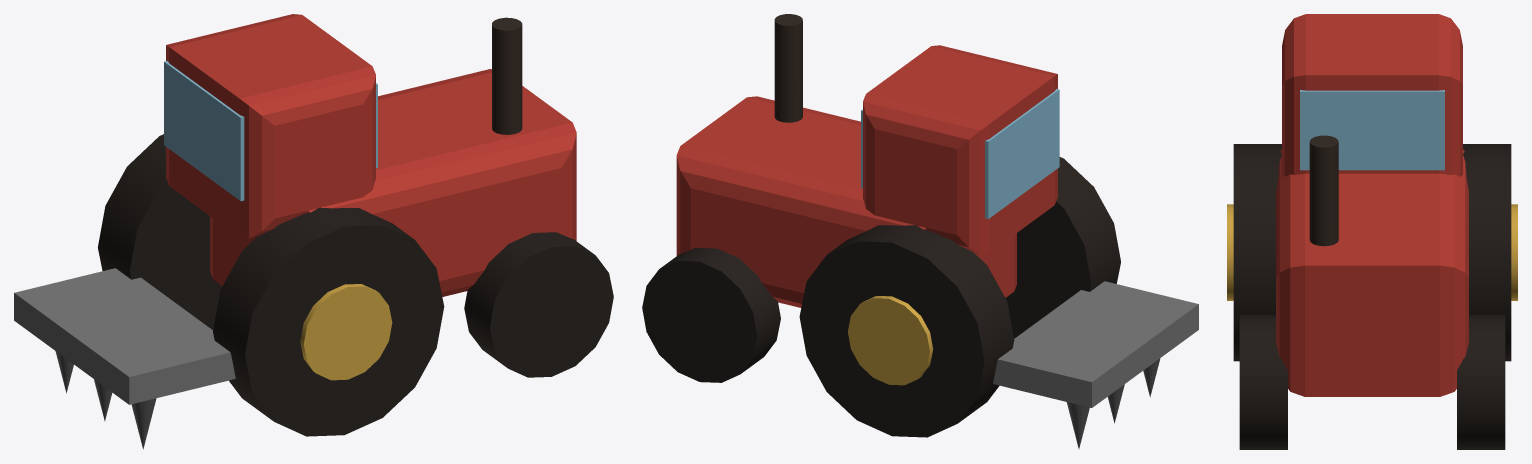
Rendered from tractor.glb.
3 views of the same model, side by side, from view 1: azimuth 30°, elevation 25°; view 2: azimuth 150°, elevation 25°; view 3: azimuth 270°, elevation 25° (orthographic). The views are drawn at different scales.
Parts seen in each view (by area): view 1: part_000; view 2: part_000; view 3: part_000.
Part boxes in pixels (x1,y1,x2,y2): part_000: (14,14,613,449); part_000: (642,14,1198,448); part_000: (1227,14,1517,449).
Bounding box in the file's own units: 2.13 × 1.4 × 1.2.
